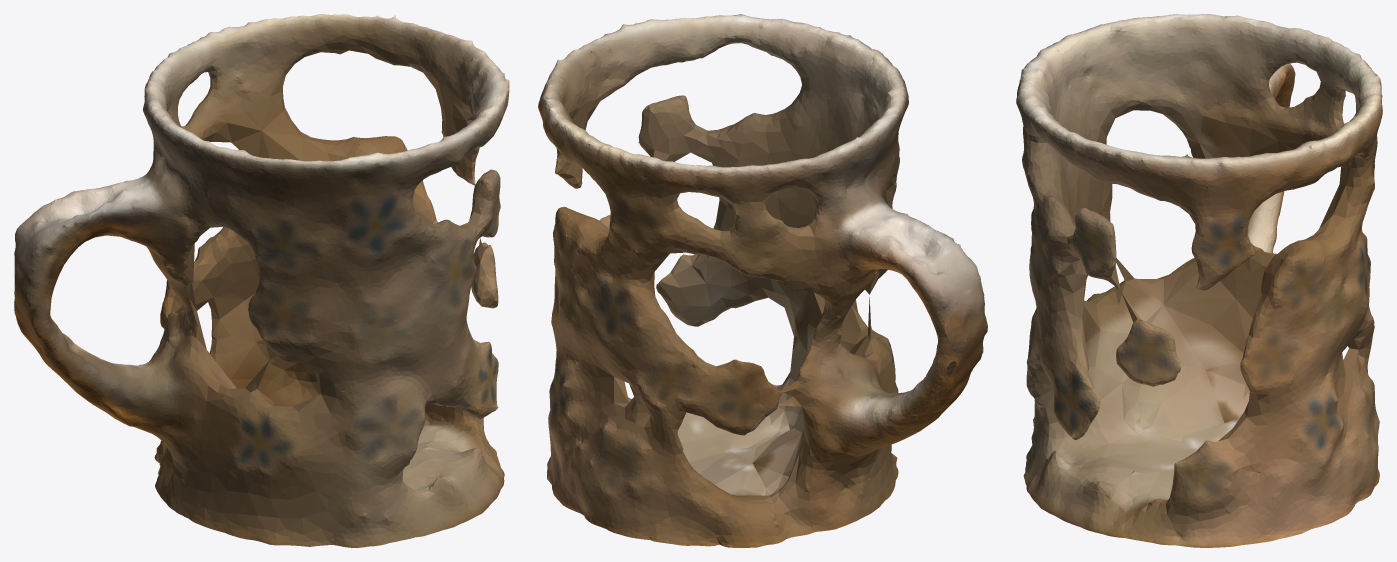
Rendered from Scaniverse 2025-10-24 202813 (1).fbx.
3 views of the same model, side by side, from view 1: azimuth 30°, elevation 25°; view 2: azimuth 150°, elevation 25°; view 3: azimuth 270°, elevation 25° (orthographic).
Visible parts, largest first — view 1: mesh; view 2: mesh; view 3: mesh.
Part boxes in pixels (x1,y1,x2,y2): mesh: [14, 14, 509, 547]; mesh: [538, 14, 987, 547]; mesh: [1016, 14, 1382, 547].
Bounding box in the file's own units: 0.1348 × 0.1129 × 0.0968.
1 material, 1 textured.
